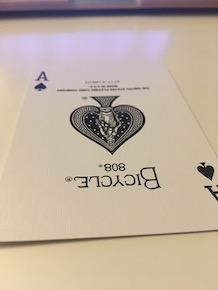AceOfSpades: (2, 61, 218, 243)
